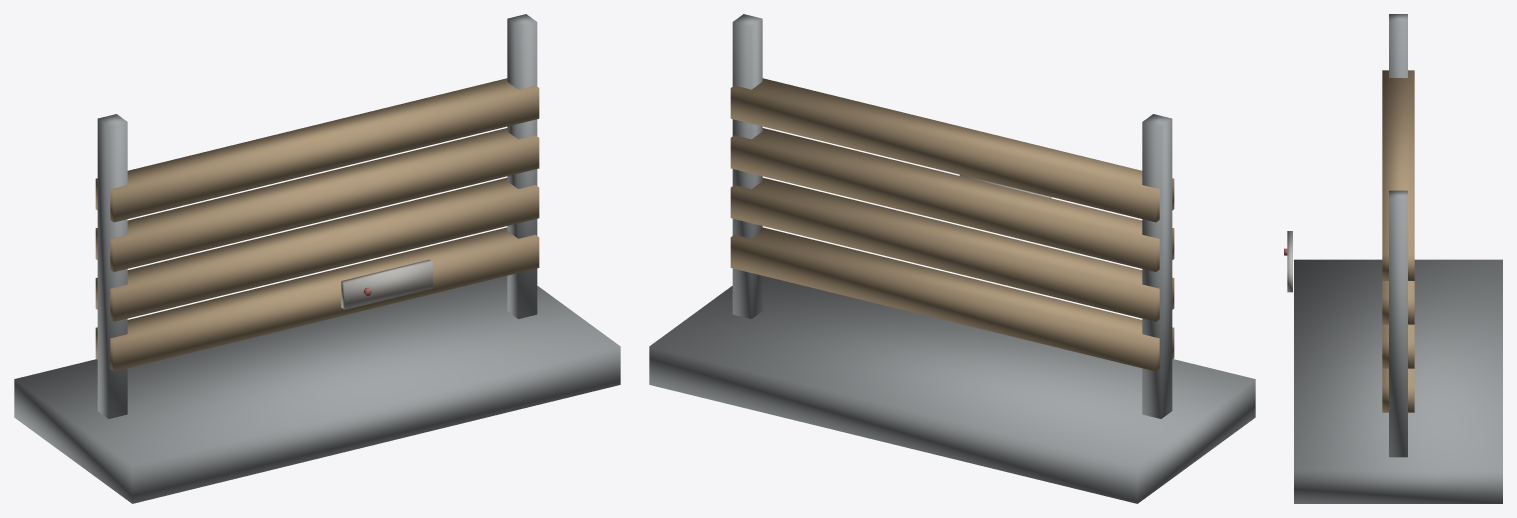
File: lumber_cart__tall.glb
3 renders of one model, left to right at view 1: azimuth 30°, elevation 25°; view 2: azimuth 150°, elevation 25°; view 3: azimuth 270°, elevation 25°, orthographic. The views are drawn at different scales.
Visible parts, largest first — view 1: world; view 2: world; view 3: world.
Boxes of the visible parts, bbox=[...] form: world: bbox=[14, 14, 620, 503]; world: bbox=[649, 14, 1255, 503]; world: bbox=[1284, 14, 1502, 503].
Bounding box in the file's own units: 1.55 × 1 × 0.681.
